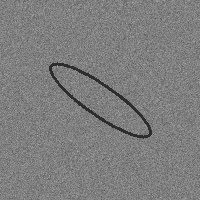rolled_in_scale: (30, 30, 170, 170)
